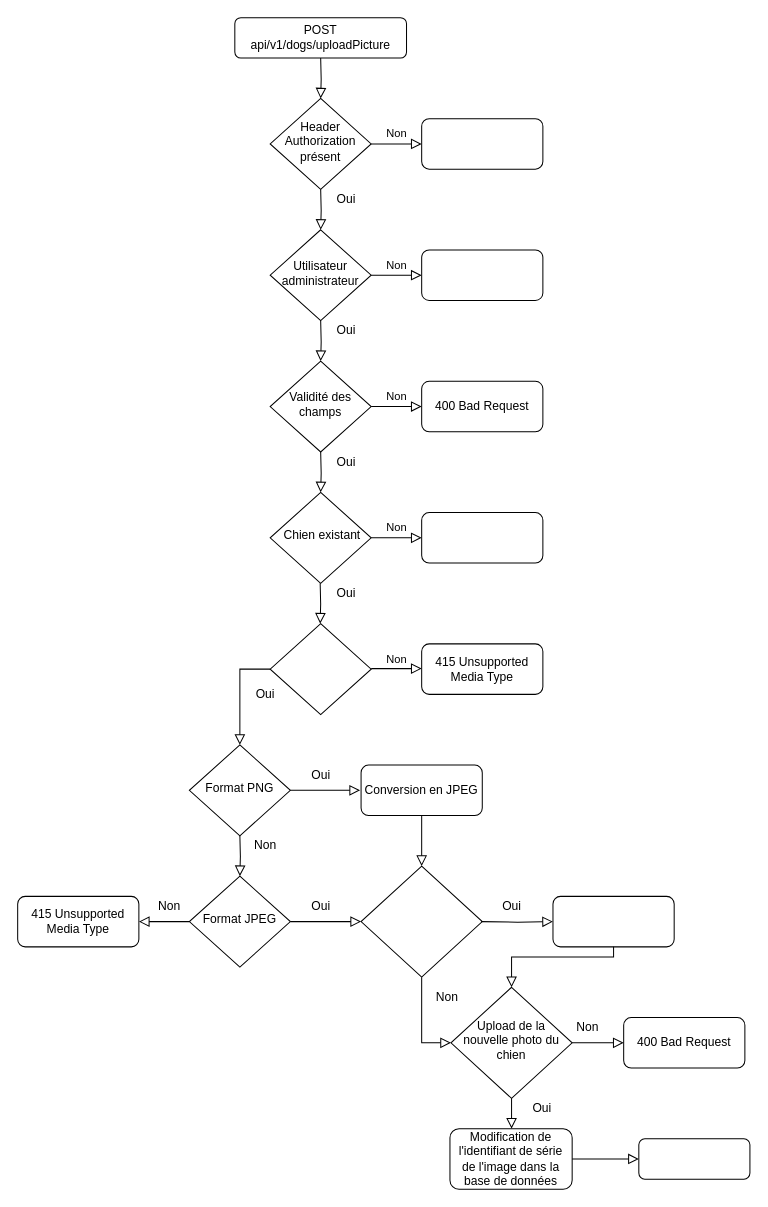
This 768x1207 diagram has some shape labels left out. The centre of each missing label's shape, as x and y in pixels:
"200 OK" belongs at (694,1158).
"401 Unauthorized" belongs at (482,143).
"403 Forbidden" belongs at (482,274).
"404 Not Found" belongs at (482,537).
"Format d'image valide" belongs at (320,669).
"Suppression de la photo du chien" belongs at (613,921).
"Une photo du chien est déjà existante" belongs at (421,921).
